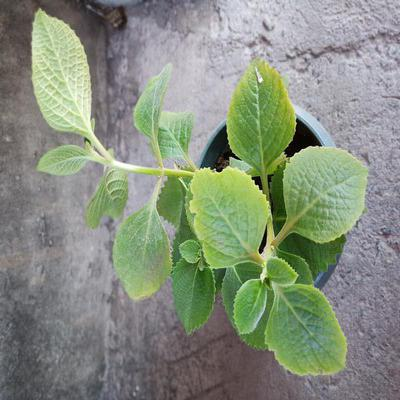Oregano: (84, 104, 386, 348)
